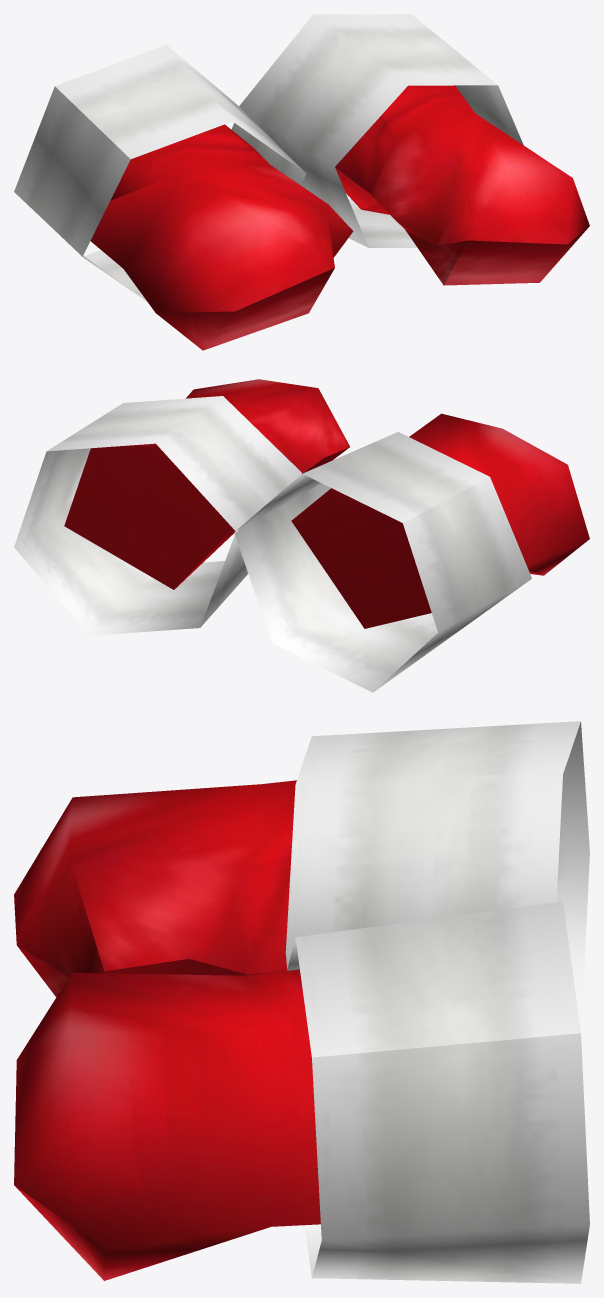
The model's file is Item13.FBX.
3 views of the same model, one above another, from view 1: azimuth 30°, elevation 25°; view 2: azimuth 150°, elevation 25°; view 3: azimuth 270°, elevation 25° (orthographic). The views are drawn at different scales.
Visible parts, largest first — view 1: item13, item12; view 2: item13, item12; view 3: item12, item13.
Boxes of the visible parts, bbox=[...] form: item13: bbox=[14, 44, 353, 350]; item12: bbox=[239, 14, 589, 285]; item13: bbox=[234, 413, 589, 692]; item12: bbox=[14, 379, 349, 635]; item12: bbox=[14, 901, 589, 1283]; item13: bbox=[14, 721, 589, 1033].
Bounding box in the file's own units: 14.73 × 6.52 × 9.91.
2 materials, 2 textured.
